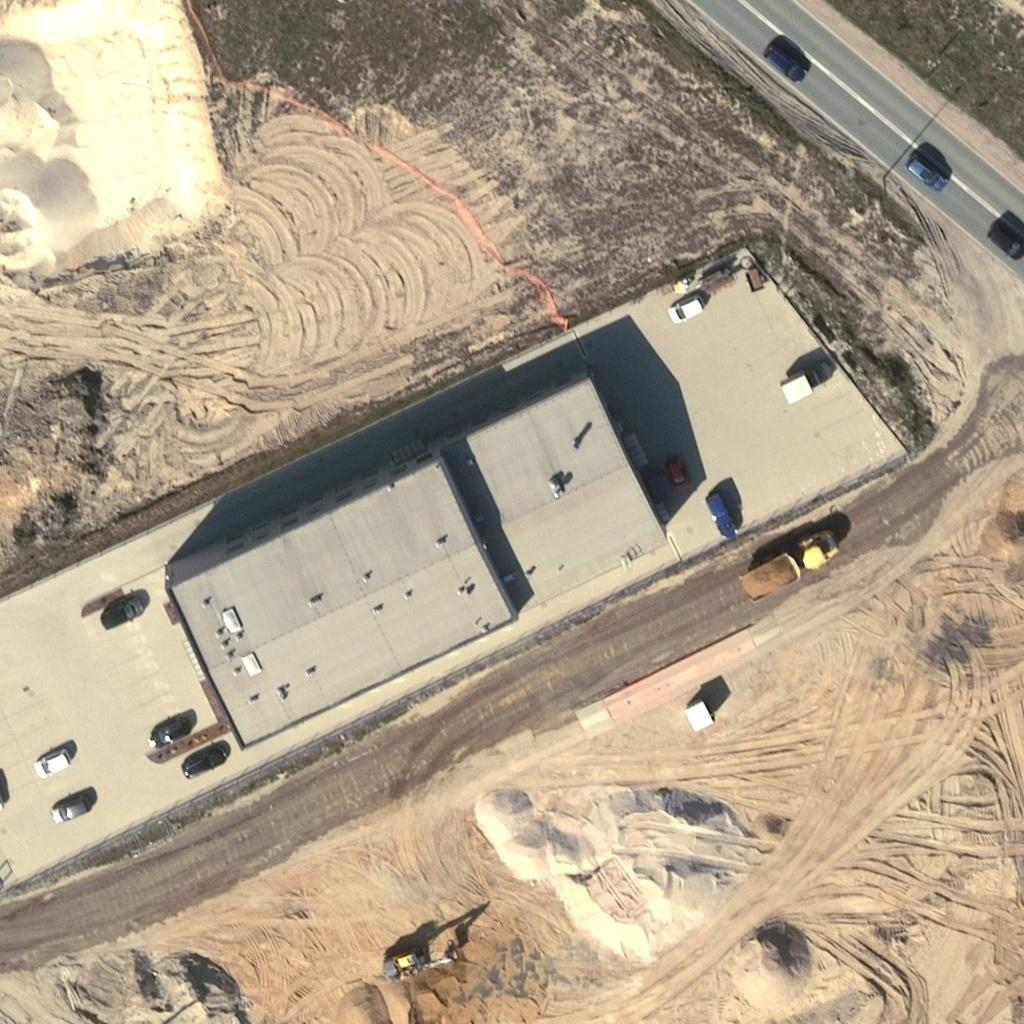ciezarowka: (740, 526, 842, 600)
koparka: (382, 948, 459, 982)
samochod_osobowy: (703, 490, 738, 541), (666, 294, 708, 330), (661, 453, 694, 490)
